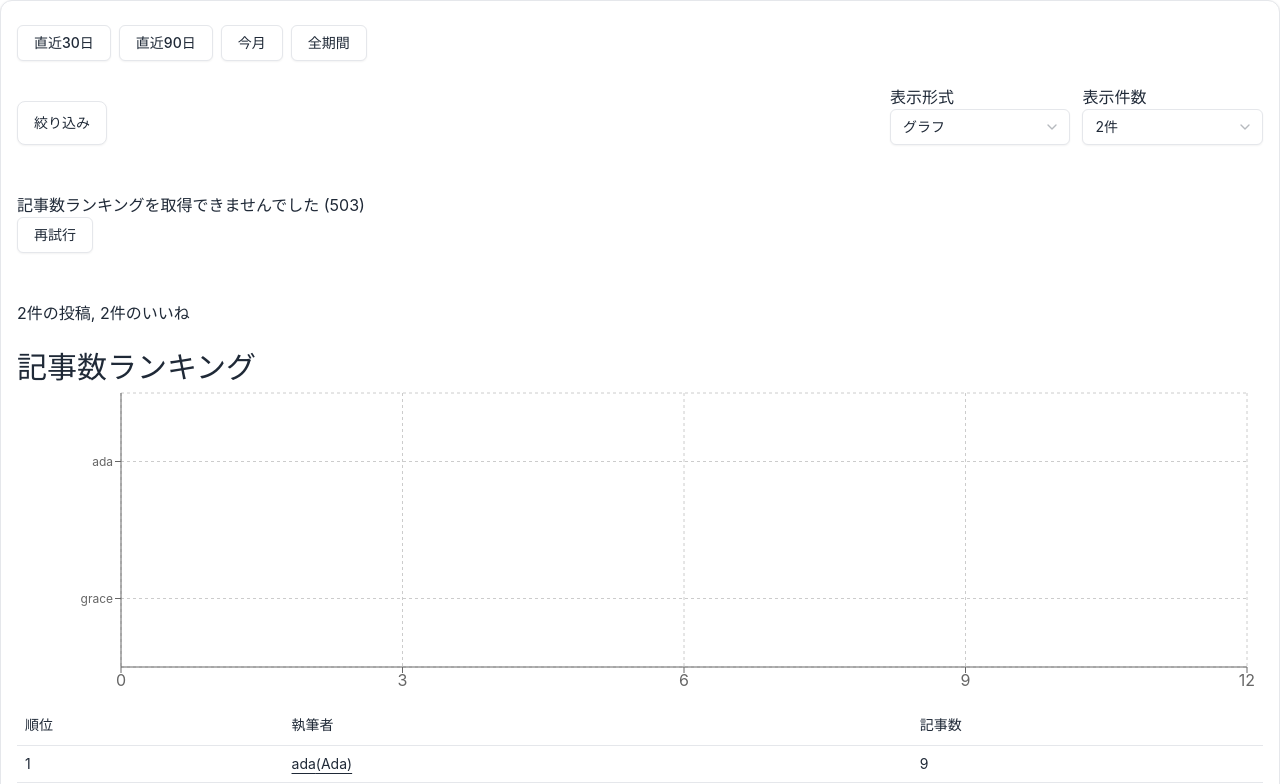
Test: history search failure retains both adopted rankings and retries the requested dates
Expected: the message "記事数ランキングを取得できませんでした (503) 再試行" is shown, top-left (17, 195), bottom-right (365, 253)
What coordinates should you click on to do the following:
click the button "再試行"
I would click on:
 (55, 235)
Its box is top-left (17, 217), bottom-right (93, 253).
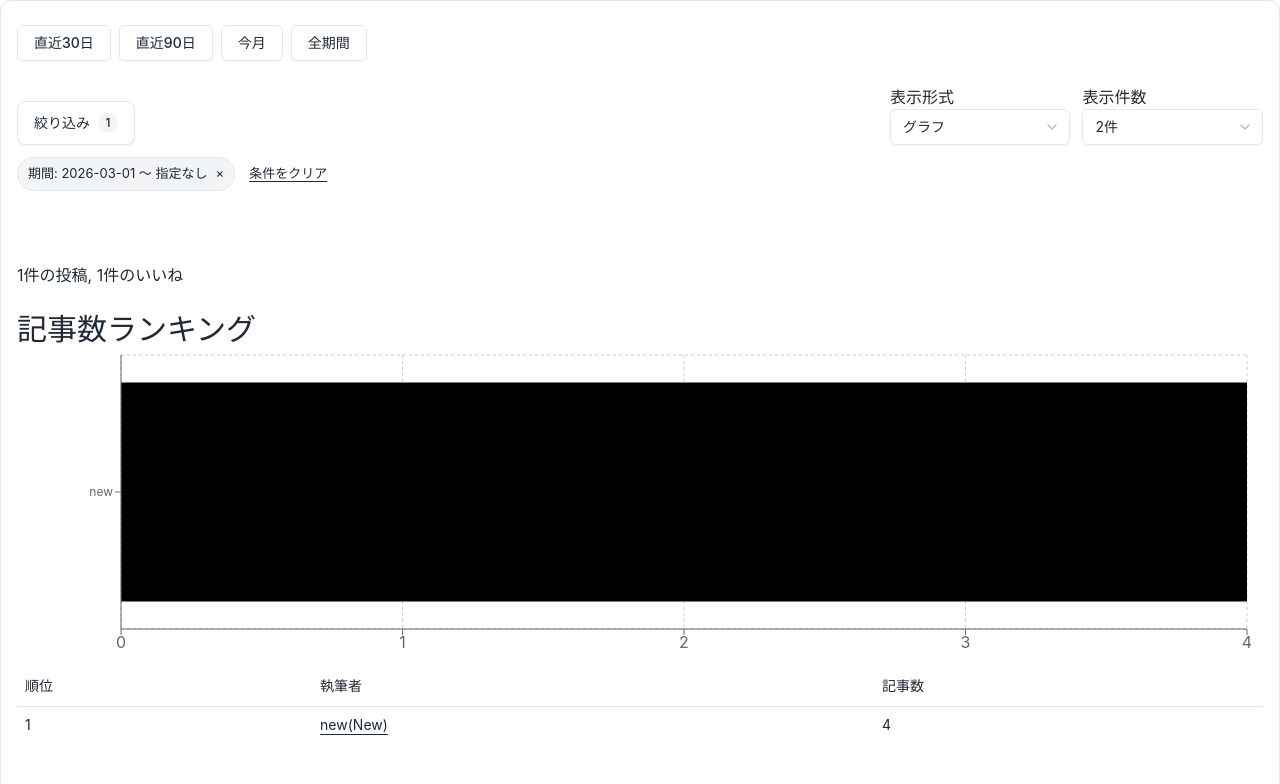
Result: the message "記事数ランキングを取得できませんでした (503) 再試行" is gone
Result: the text "2026-03-01" is shown at top-left (17, 157), bottom-right (235, 190)
Result: the text "new" is shown at top-left (89, 484), bottom-right (113, 499)
